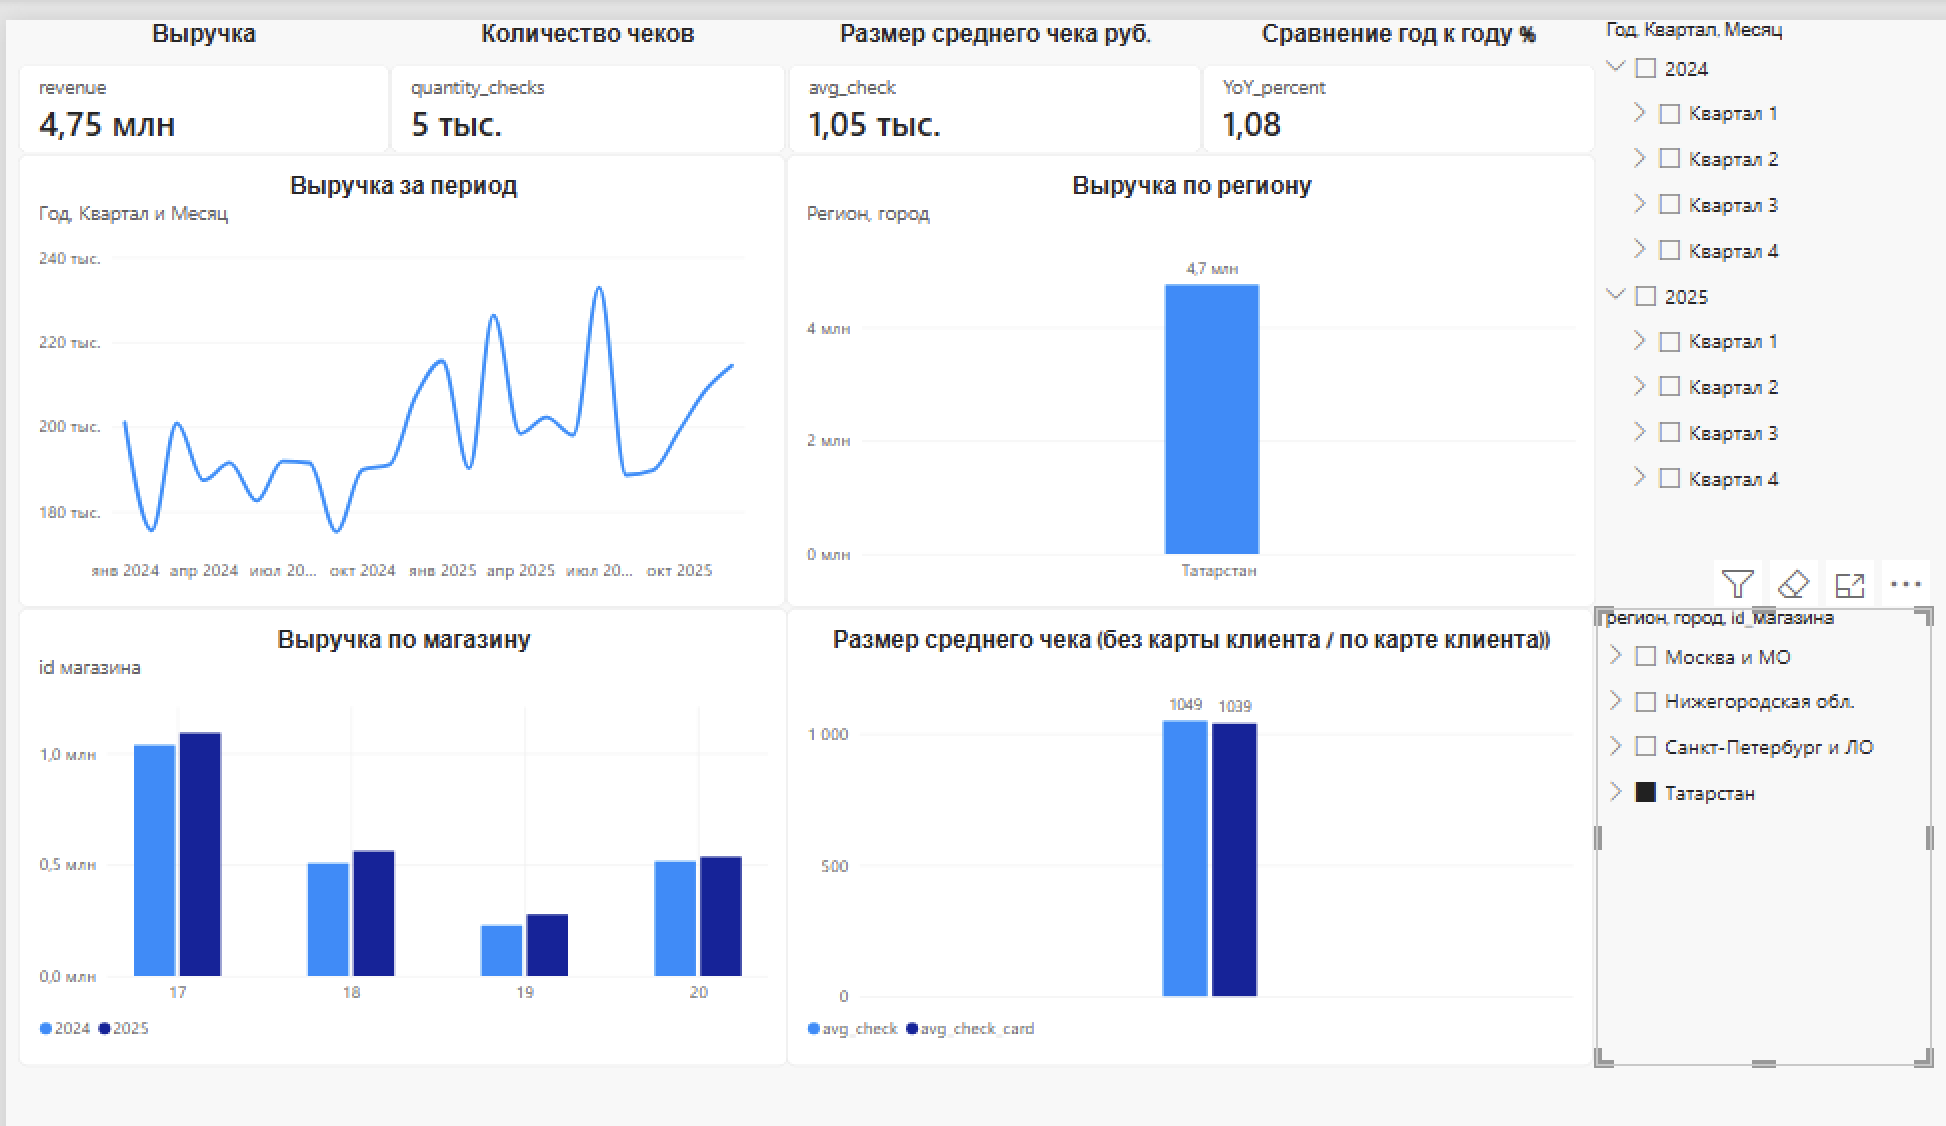

What the dashboard file says about the page in this screenshot:
{"tool":"powerbi","page":{"name":"Sales Sosedushka","canvas":[1920,1080],"ordinal":0},"visuals":[{"type":"cardVisual","title":"Выручка","fields":{"Data":["fact_sales.revenue"]},"box":[10,0,310,111.7],"z":0},{"type":"cardVisual","title":"Количество чеков","fields":{"Data":["fact_sales.quantity_checks"]},"box":[320,0,330,111.7],"z":1},{"type":"cardVisual","title":"Размер среднего чека руб.","fields":{"Data":["fact_sales.avg_check"]},"box":[651.7,0,345,111.7],"z":2},{"type":"cardVisual","title":"Сравнение год к году %","fields":{"Data":["fact_sales.YoY_percent"]},"box":[996.7,0,328.3,111.7],"z":3},{"type":"lineChart","title":"Выручка за период","fields":{"Category":["fact_sales.дата_время.Изменение.Иерархия дат.Год","fact_sales.дата_время.Изменение.Иерархия дат.Квартал","fact_sales.дата_время.Изменение.Иерархия дат.Месяц"],"Y":["fact_sales.revenue"]},"box":[10,111.7,640,378.3],"z":4},{"type":"clusteredColumnChart","title":"Выручка по магазину","fields":{"Category":["fact_sales.id_магазина"],"Series":["fact_sales.дата_время.Изменение.Иерархия дат.Год"],"Y":["fact_sales.revenue"]},"box":[10,490,641.7,381.7],"z":5},{"type":"clusteredColumnChart","title":"Размер среднего чека (без карты клиента / по карте клиента))","fields":{"Y":["fact_sales.avg_check","fact_sales.avg_check_card"]},"box":[650,490,673.3,381.7],"z":6},{"type":"clusteredColumnChart","title":"Выручка по региону","fields":{"Category":["dim_stores.регион","dim_stores.город"],"Y":["fact_sales.revenue"]},"box":[650,111.7,675,378.3],"z":7},{"type":"slicer","fields":{"Values":["dim_stores.регион","dim_stores.город","dim_stores.id_магазина"]},"box":[1325,490,280,381.7],"z":8},{"type":"slicer","fields":{"Values":["fact_sales.дата_время.Изменение.Иерархия дат.Год","fact_sales.дата_время.Изменение.Иерархия дат.Квартал","fact_sales.дата_время.Изменение.Иерархия дат.Месяц"]},"box":[1325,0,280,456.7],"z":9}]}

Visuals, with their boxes on the page's 1920x1080 design canvas (x1, y1, x2, y2). These are canvas units, not pixel positions in the 1946x1126 screenshot, which may show the page scaled, cropped or inside an application window:
"Выручка" cardVisual: 10/0/320/112
"Количество чеков" cardVisual: 320/0/650/112
"Размер среднего чека руб." cardVisual: 652/0/997/112
"Сравнение год к году %" cardVisual: 997/0/1325/112
"Выручка за период" lineChart: 10/112/650/490
"Выручка по магазину" clusteredColumnChart: 10/490/652/872
"Размер среднего чека (без карты клиента / по карте клиента))" clusteredColumnChart: 650/490/1323/872
"Выручка по региону" clusteredColumnChart: 650/112/1325/490
slicer - dim_stores.регион x dim_stores.город: 1325/490/1605/872
slicer - fact_sales.дата_время.Изменение.Иерархия дат.Год x fact_sales.дата_время.Изменение.Иерархия дат.Квартал: 1325/0/1605/457
